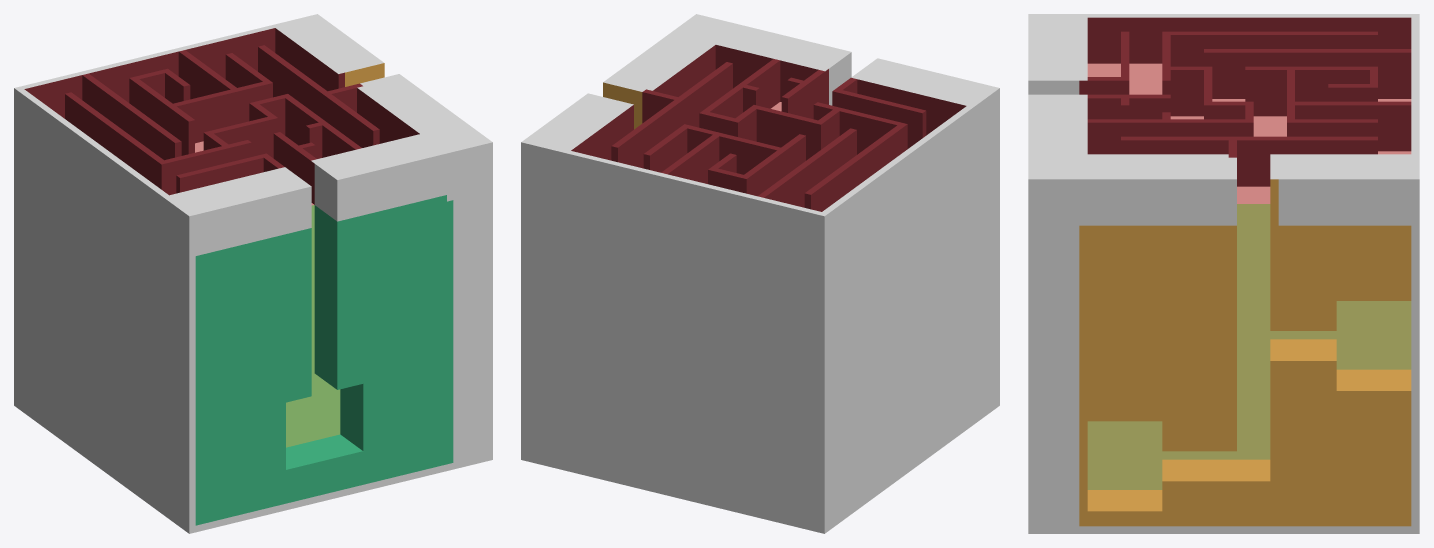
Rendered from MazeCubeColorTest.fbx.
The picture shows the model from 3 angles, left to right: view 1: azimuth 30°, elevation 25°; view 2: azimuth 150°, elevation 25°; view 3: azimuth 270°, elevation 25°; orthographic projection. The views are drawn at different scales.
Parts seen in each view (by area): view 1: puzzle 02 test; view 2: puzzle 02 test; view 3: puzzle 02 test.
Part boxes in pixels (box(x1,y1,x2,y2)): puzzle 02 test: box(14, 14, 492, 533); puzzle 02 test: box(521, 14, 999, 533); puzzle 02 test: box(1028, 14, 1419, 533).
Bounding box in the file's own units: 452 × 452 × 452.
